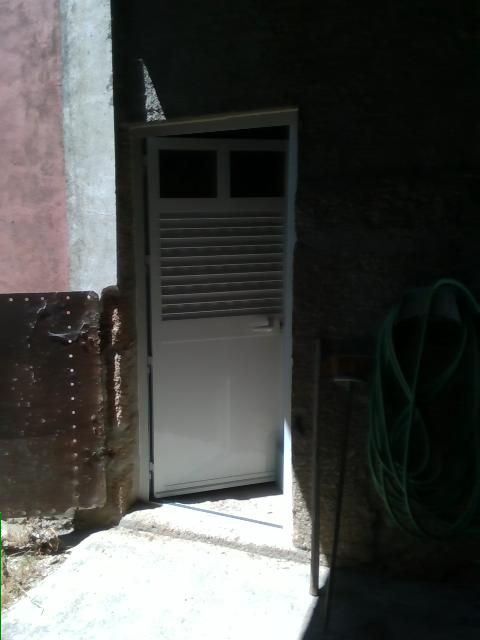semi_door: (129, 103, 300, 530)
